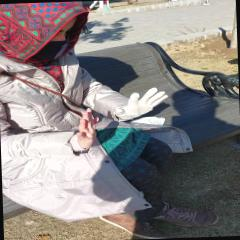gloved: (118, 86, 168, 118)
not-gloved: (72, 109, 101, 152)
